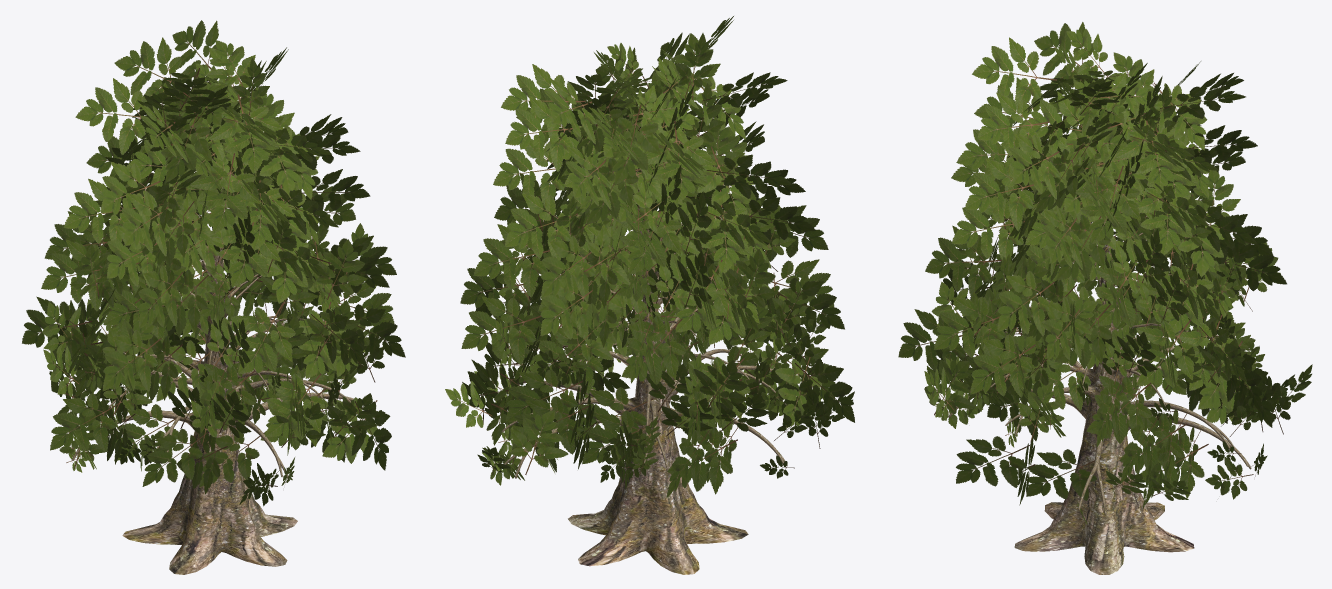
File: boom #1.fbx
The picture shows the model from 3 angles, left to right: view 1: azimuth 30°, elevation 25°; view 2: azimuth 150°, elevation 25°; view 3: azimuth 270°, elevation 25°; orthographic projection. The views are drawn at different scales.
Visible parts, largest first — view 1: branch01_1, mossybark02_0; view 2: branch01_1, mossybark02_0; view 3: branch01_1, mossybark02_0.
Boxes of the visible parts, x1=… form: branch01_1: x1=22, y1=20, x2=405, y2=506; mossybark02_0: x1=71, y1=142, x2=375, y2=574; branch01_1: x1=445, y1=16, x2=854, y2=497; mossybark02_0: x1=501, y1=169, x2=799, y2=574; branch01_1: x1=898, y1=22, x2=1312, y2=524; mossybark02_0: x1=948, y1=171, x2=1251, y2=574.
Bounding box in the file's own units: 107 × 134 × 105.
2 materials, 2 textured.
